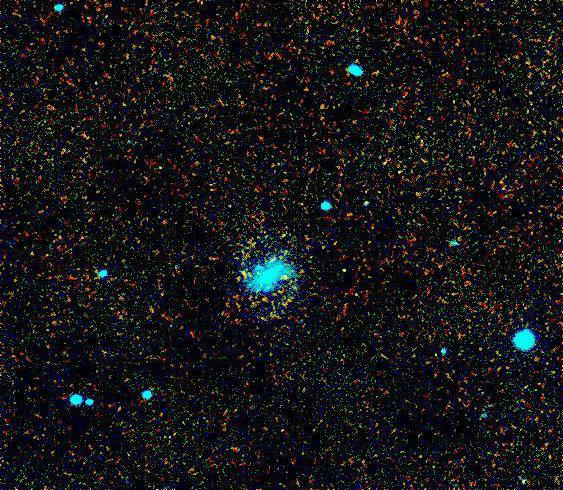star: (267, 263, 297, 293)
